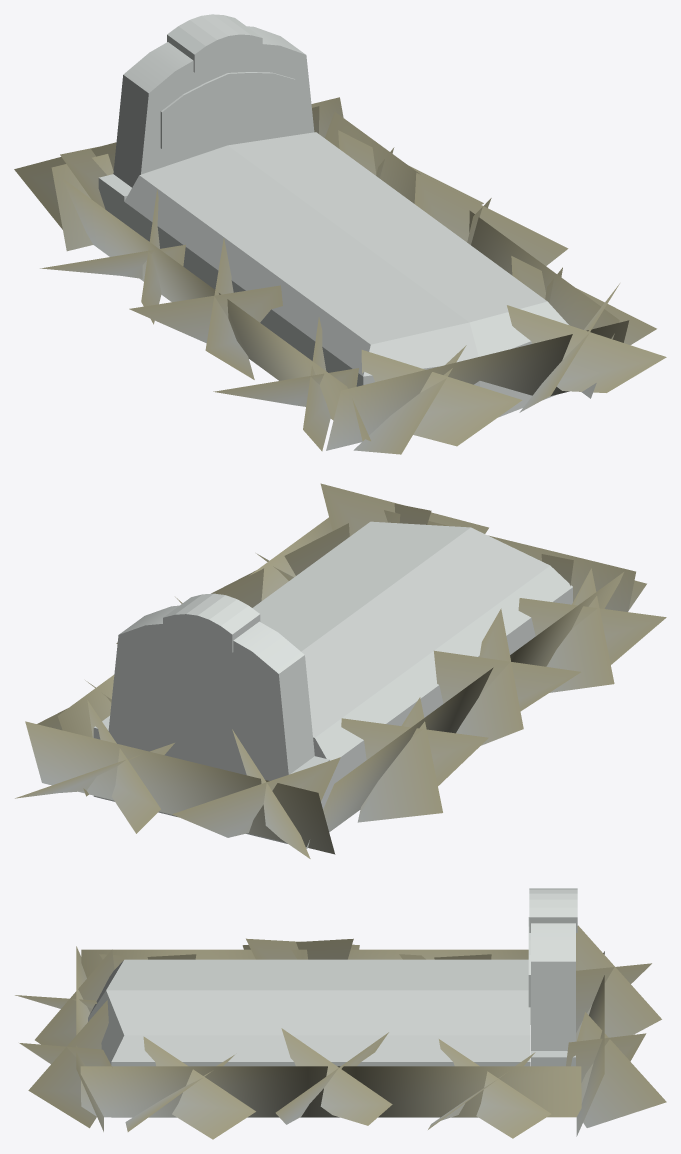
3 views of the same model, one above another, from view 1: azimuth 30°, elevation 25°; view 2: azimuth 150°, elevation 25°; view 3: azimuth 270°, elevation 25° (orthographic). The views are drawn at different scales.
Visible parts, largest first — view 1: G:\FFXIV-MapTools\exports\n4f3\bg\ex3\01_nvt_n4\fld\n4f3\bgp (×2); view 2: G:\FFXIV-MapTools\exports\n4f3\bg\ex3\01_nvt_n4\fld\n4f3\bgp (×2); view 3: G:\FFXIV-MapTools\exports\n4f3\bg\ex3\01_nvt_n4\fld\n4f3\bgp (×2).
Part boxes in pixels (x1,y1,x2,y2): G:\FFXIV-MapTools\exports\n4f3\bg\ex3\01_nvt_n4\fld\n4f3\bgp (×2): (14, 14, 666, 454); G:\FFXIV-MapTools\exports\n4f3\bg\ex3\01_nvt_n4\fld\n4f3\bgp (×2): (15, 483, 666, 858); G:\FFXIV-MapTools\exports\n4f3\bg\ex3\01_nvt_n4\fld\n4f3\bgp (×2): (15, 888, 666, 1139).
Size of the model in its own units: 1.94 by 0.9806 by 3.12.
